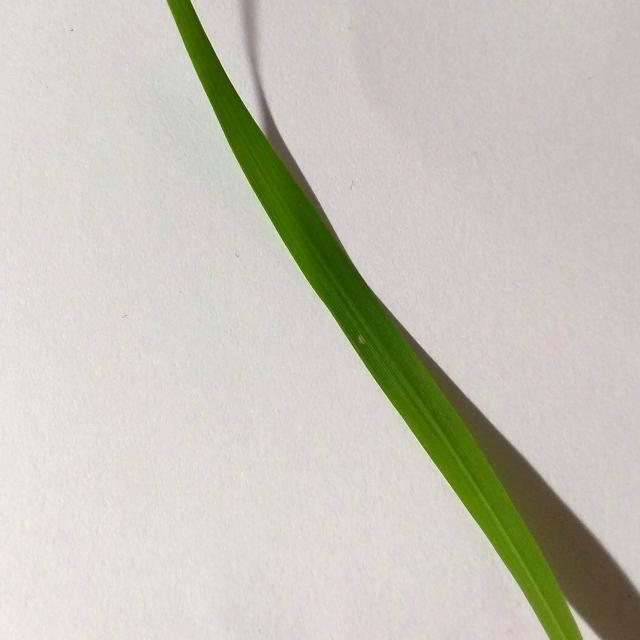Rice_Healthy: (167, 0, 582, 640)
